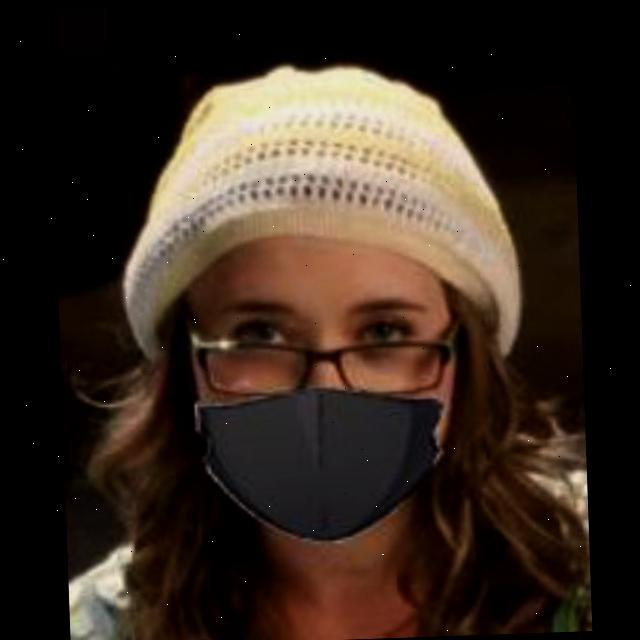suspicion: (104, 209, 550, 585)
